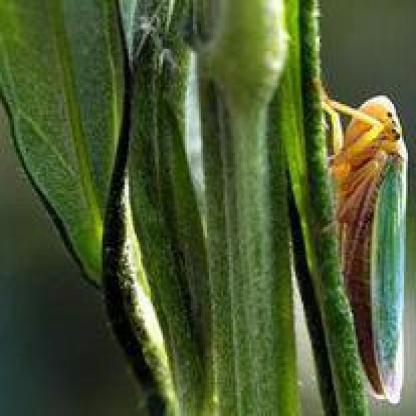Green-Leafhopper: (310, 72, 416, 406)
